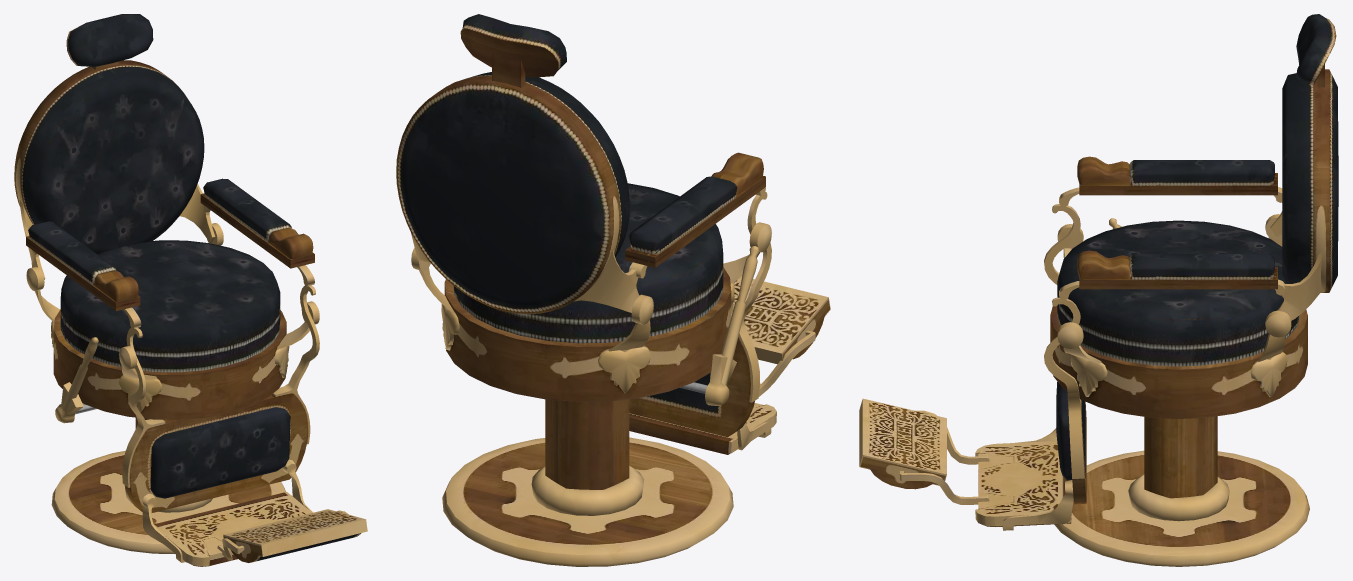
The model's file is BarberShopChair_01.glb.
The picture shows the model from 3 angles, left to right: view 1: azimuth 30°, elevation 25°; view 2: azimuth 150°, elevation 25°; view 3: azimuth 270°, elevation 25°; orthographic projection. The views are drawn at different scales.
Visible parts, largest first — view 1: BarberShopChair_01; view 2: BarberShopChair_01; view 3: BarberShopChair_01.
Part boxes in pixels (<box>): BarberShopChair_01: <box>14,14,367,566</box>; BarberShopChair_01: <box>396,14,830,566</box>; BarberShopChair_01: <box>859,14,1338,566</box>.
Bounding box in the file's own units: 0.7565 × 1.49 × 1.33.
1 material, 1 textured.
